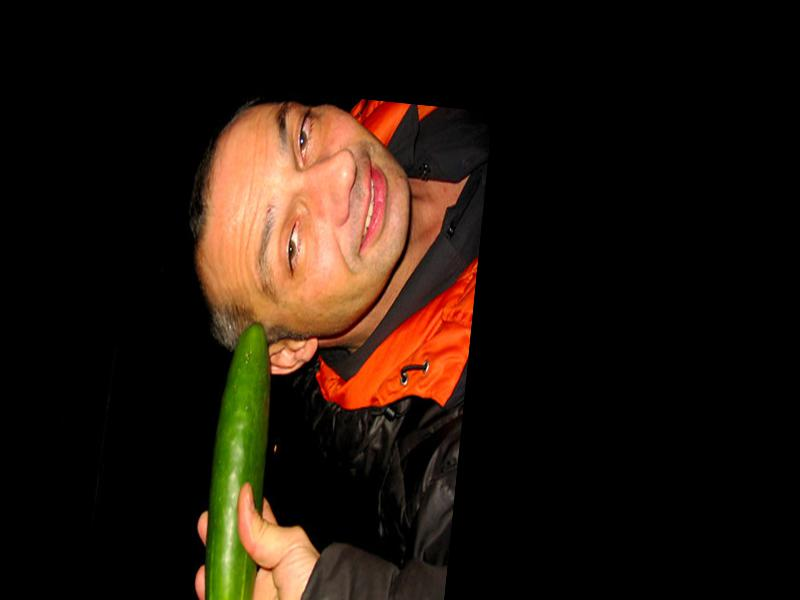Cucumber: (196, 318, 280, 600)
